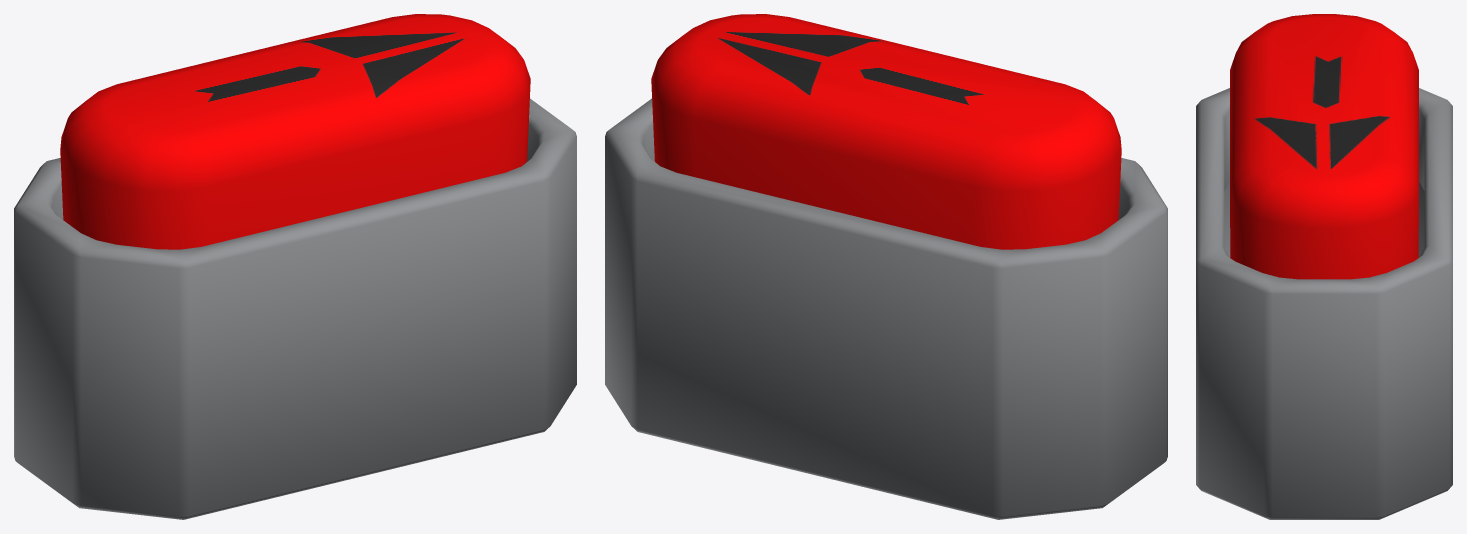
Rendered from ButtonFFFFFFF.fbx.
The picture shows the model from 3 angles, left to right: view 1: azimuth 30°, elevation 25°; view 2: azimuth 150°, elevation 25°; view 3: azimuth 270°, elevation 25°; orthographic projection. The views are drawn at different scales.
Parts seen in each view (by area): view 1: Cube, Cube.001; view 2: Cube, Cube.001; view 3: Cube, Cube.001.
Boxes of the visible parts, bbox=[...] form: Cube: bbox=[14, 98, 576, 519]; Cube.001: bbox=[60, 14, 530, 249]; Cube: bbox=[605, 98, 1167, 519]; Cube.001: bbox=[651, 14, 1121, 249]; Cube: bbox=[1196, 88, 1452, 519]; Cube.001: bbox=[1230, 14, 1418, 279].
Bounding box in the file's own units: 407 × 271 × 200.
